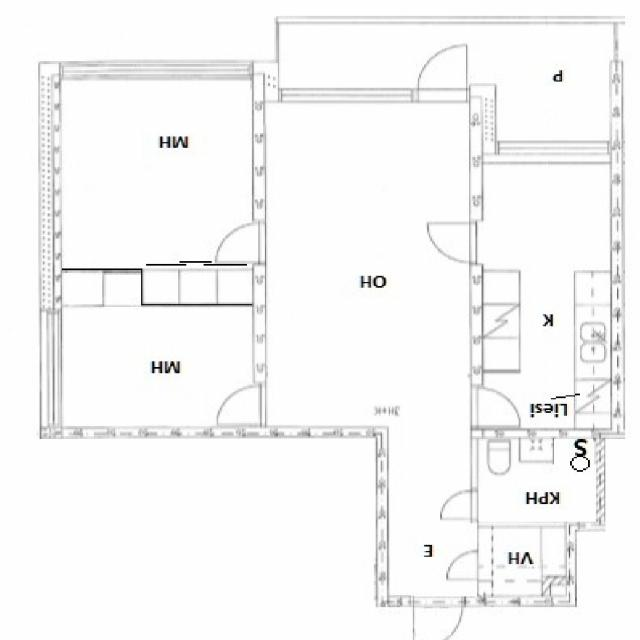door: (418, 44, 466, 102), (413, 596, 462, 640), (426, 222, 476, 263), (470, 386, 521, 426), (215, 222, 265, 262), (217, 385, 265, 424), (438, 490, 478, 519), (438, 551, 478, 579)
